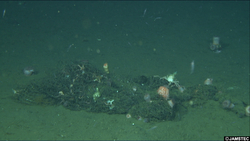fishing net: (9, 58, 220, 124)
